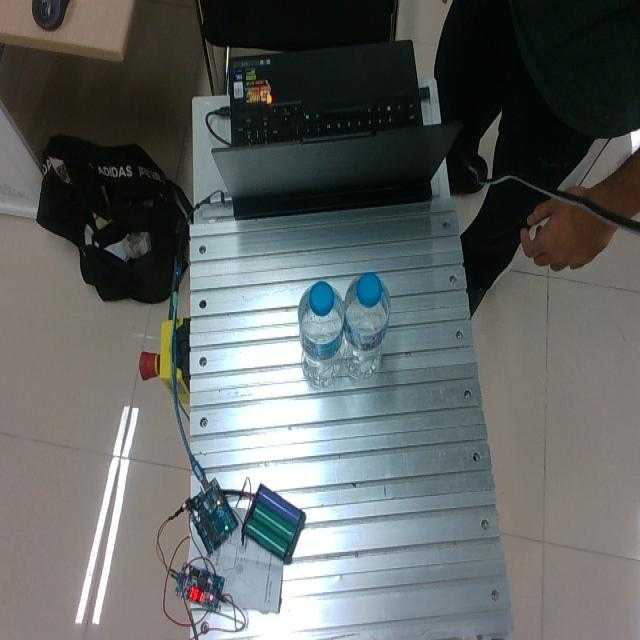lavie: (298, 279, 348, 389), (342, 272, 390, 380)
